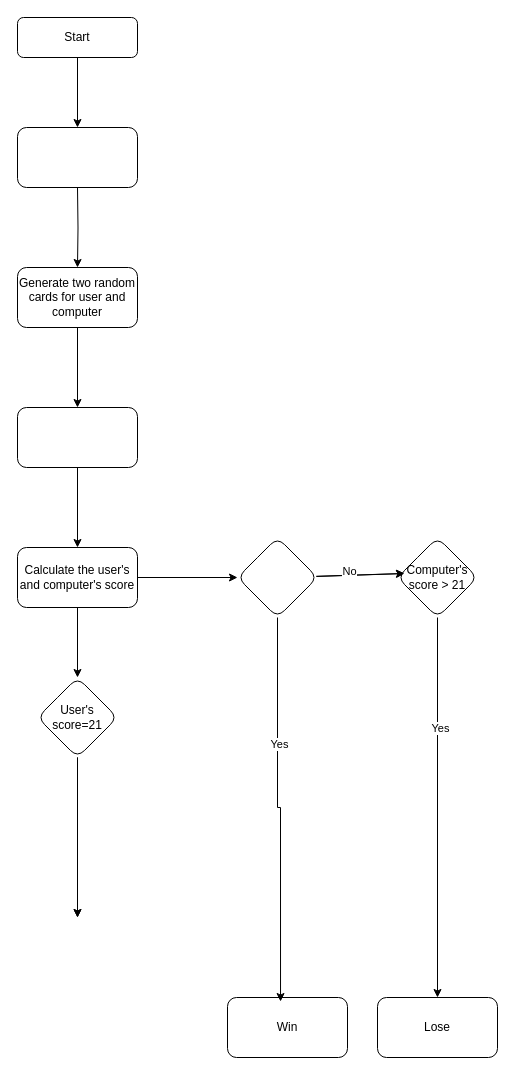
Image size: 515x1075. Some labels were removed from this diagram. The shapes that lost their labels are listed below. From the top down, each one's centre as x and y in pixels, then its label:
At (77,157): "Generate a list of cards from value 2 to 11 with 10 occuring 4 times".
At (77,437): "Show user's both cards and computer's first card on screen".
At (277,577): "Computer's score = 21".
